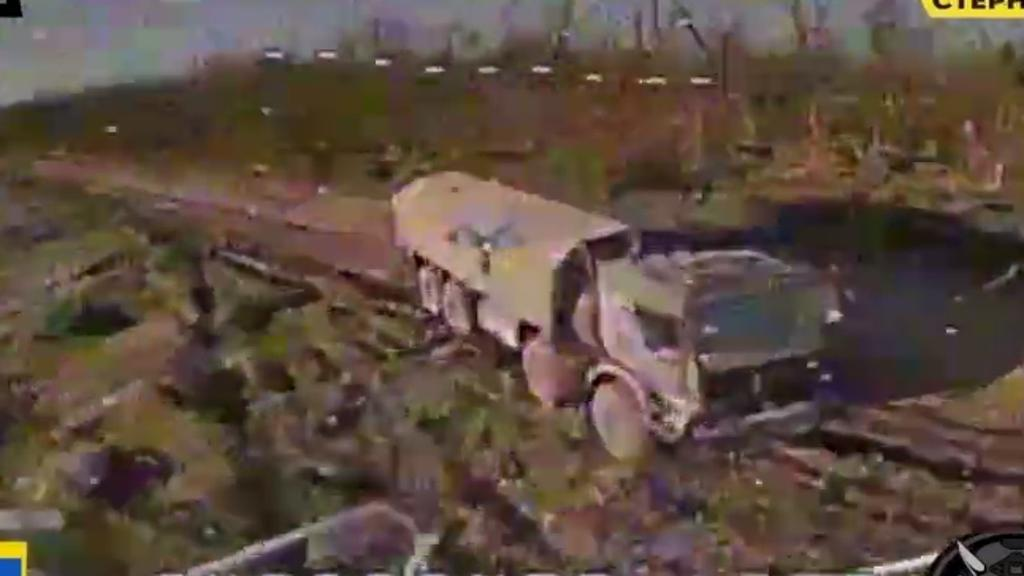TRUCK: (382, 167, 828, 464)
